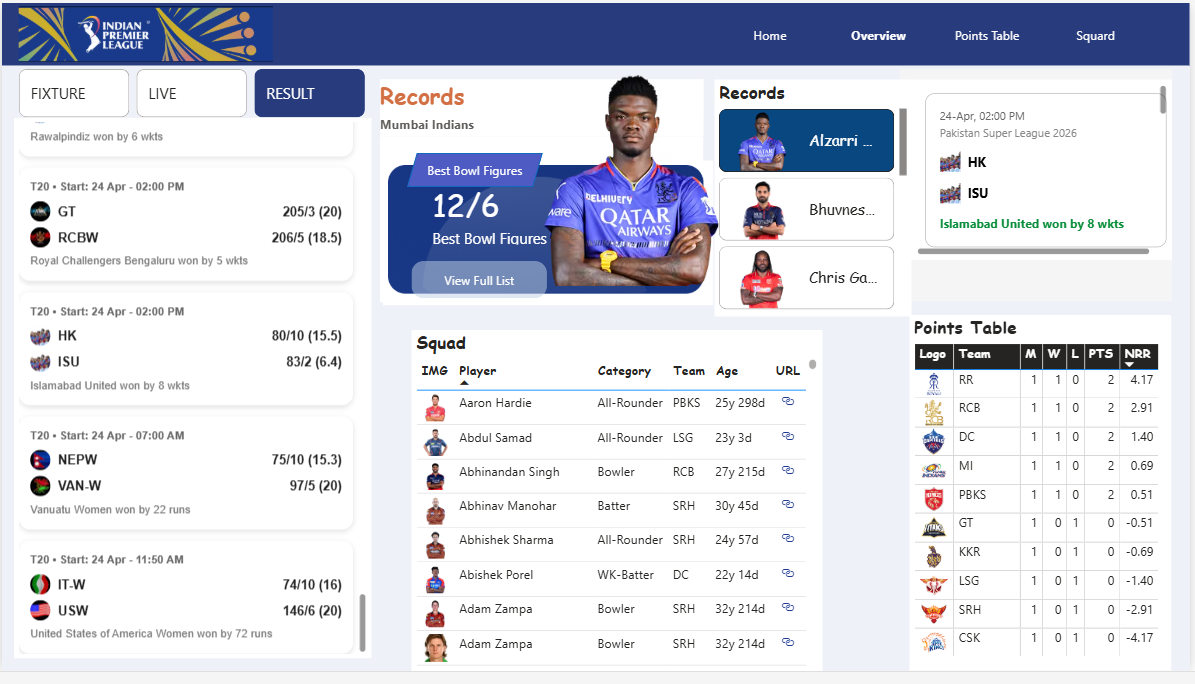

The page's visual inventory and layout, read from the dashboard file:
{"tool":"powerbi","page":{"name":"Overview","canvas":[1280,720],"ordinal":1},"visuals":[{"type":"shape","box":[0,0,1280,67.5],"z":0},{"type":"htmlContent443BE3AD55E043BF878BED274D3A6855","fields":{"content":["All_Matches_Score.Cards Column"],"sampling":["All_Matches_Score.ms"]},"box":[13.3,123.3,385,583.3],"z":1000},{"type":"advancedSlicerVisual","fields":{"Values":["All_Matches_Score.ms"]},"box":[12.5,71.2,385,52.5],"z":2000},{"type":"image","box":[0,4,310,60],"z":3000},{"type":"pageNavigator","box":[775,10,458.3,50],"z":4000},{"type":"tableEx","title":"Points Table","fields":{"Values":["points_table.Logo","points_table.Team_SN","Sum(points_table.M)","Sum(points_table.W)","Sum(points_table.L)","Sum(points_table.PTS)","Sum(points_table.NRR)"]},"box":[978.3,336.7,281.7,383.3],"z":5000},{"type":"tableEx","title":"Squad","fields":{"Values":["Players_Name.PlayerIMG","Players_Name.PlayerName","Players_Name.Category","Players_Name.Team_SN","Players_Name.Age","Players_Name.PlayerURL"]},"box":[441.7,351.7,441.7,368.3],"z":6000},{"type":"htmlContent443BE3AD55E043BF878BED274D3A6855","title":"Results","fields":{"content":["Sechdule.Results_Cards"]},"box":[968.3,71.7,291.7,250],"z":7000},{"type":"advancedSlicerVisual","title":"Records","fields":{"Values":["Records.Name"]},"box":[760,71.7,198.3,250],"z":8000},{"type":"shape","title":"Records","box":[407.2,82.7,348.3,240.2],"z":9000},{"type":"htmlContent443BE3AD55E043BF878BED274D3A6855","fields":{"content":["_measures.BG_Records_IMG"]},"box":[410,170,356,156],"z":10000},{"type":"shape","box":[435.8,162.2,146.3,36.6],"z":11000},{"type":"cardVisual","fields":{"Data":["Min(Records.Value)"]},"box":[434.2,179.7,182.9,98.6],"z":12000},{"type":"actionButton","title":"View Full List","box":[442,278,146,40],"z":13000},{"type":"htmlContent443BE3AD55E043BF878BED274D3A6855","fields":{"content":["Schedule.Results_Cards"]},"box":[968,82,292,236],"z":14000},{"type":"cardVisual","fields":{"Data":["Min(Players_Name.PlayerIMG)"]},"box":[556,50,250,272],"z":15000}]}

Visuals, with their boxes in screenshot pixels (x1, y1, x2, y2), scaled from the page's 1280x720 canvas onto the 1195x684 screenshot:
shape: locate(0, 0, 1194, 64)
htmlContent443BE3AD55E043BF878BED274D3A6855 - All_Matches_Score.Cards Column x All_Matches_Score.ms: locate(12, 117, 372, 671)
advancedSlicerVisual - All_Matches_Score.ms: locate(12, 68, 371, 118)
image: locate(0, 4, 289, 61)
pageNavigator: locate(724, 10, 1151, 57)
"Points Table" tableEx: locate(913, 320, 1176, 683)
"Squad" tableEx: locate(412, 334, 825, 683)
"Results" htmlContent443BE3AD55E043BF878BED274D3A6855: locate(904, 68, 1176, 306)
"Records" advancedSlicerVisual: locate(710, 68, 895, 306)
"Records" shape: locate(380, 79, 705, 307)
htmlContent443BE3AD55E043BF878BED274D3A6855 - _measures.BG_Records_IMG: locate(383, 162, 715, 310)
shape: locate(407, 154, 543, 189)
cardVisual - Min(Records.Value): locate(405, 171, 576, 264)
"View Full List" actionButton: locate(413, 264, 549, 302)
htmlContent443BE3AD55E043BF878BED274D3A6855 - Schedule.Results_Cards: locate(904, 78, 1176, 302)
cardVisual - Min(Players_Name.PlayerIMG): locate(519, 48, 752, 306)
